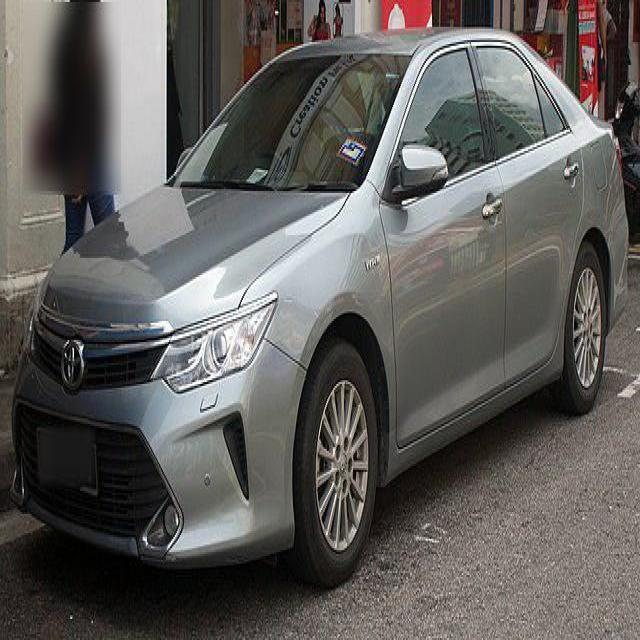back_left_door: (470, 39, 584, 389)
front_bumper: (10, 290, 307, 566)
front_glass: (167, 54, 412, 192)
front_left_door: (379, 39, 506, 451)
front_left_light: (151, 300, 279, 392)
hood: (37, 189, 350, 345)
left_mirror: (391, 144, 450, 203)
wheel: (302, 240, 607, 585)
